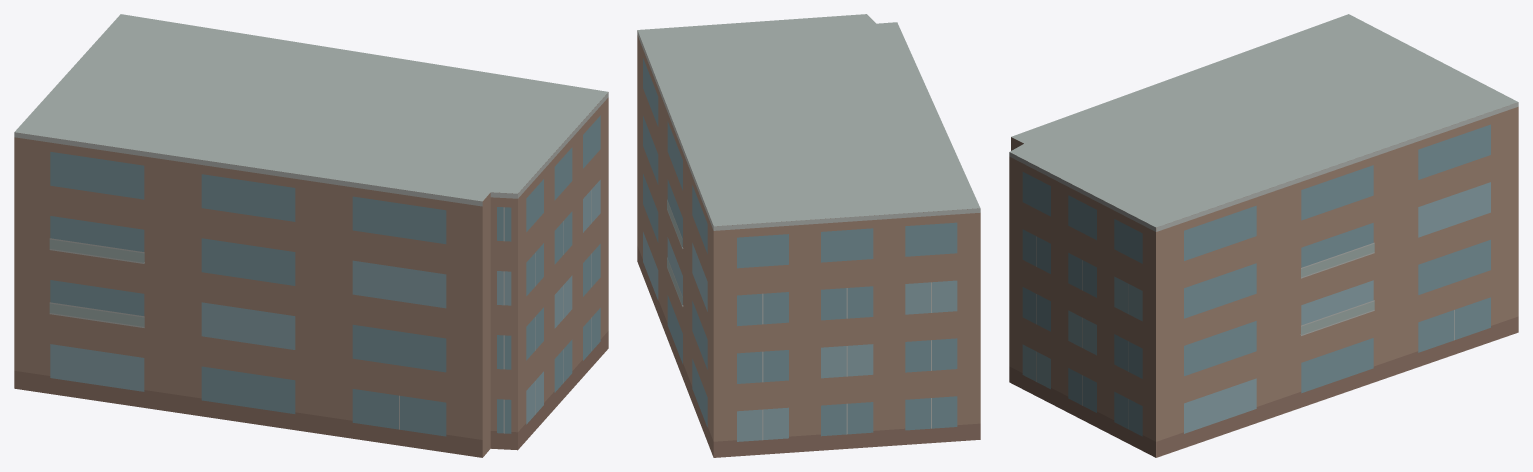
The model's file is survey-upis-32781323.glb.
The picture shows the model from 3 angles, left to right: view 1: azimuth 30°, elevation 25°; view 2: azimuth 150°, elevation 25°; view 3: azimuth 270°, elevation 25°; orthographic projection. The views are drawn at different scales.
Visible parts, largest first — view 1: survey-upis-32781323.tmp; view 2: survey-upis-32781323.tmp; view 3: survey-upis-32781323.tmp.
Part boxes in pixels (box(x1,y1,x2,y2)): survey-upis-32781323.tmp: box(14, 14, 608, 457); survey-upis-32781323.tmp: box(637, 14, 980, 457); survey-upis-32781323.tmp: box(1009, 14, 1518, 457).
Bounding box in the file's own units: 24.66 × 12.4 × 24.85.
